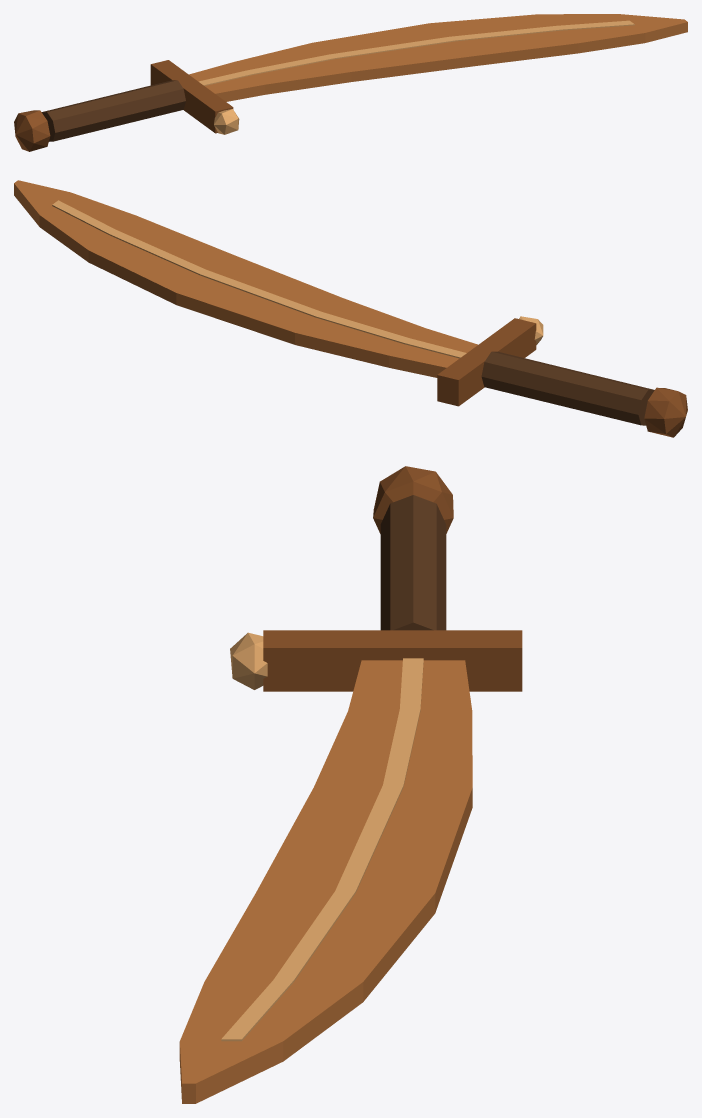
The model's file is drop_bronze_scimitar.glb.
3 renders of one model, top to bottom at view 1: azimuth 30°, elevation 25°; view 2: azimuth 150°, elevation 25°; view 3: azimuth 270°, elevation 25°, orthographic. The views are drawn at different scales.
Parts seen in each view (by area): view 1: drop_bronze_scimitar; view 2: drop_bronze_scimitar; view 3: drop_bronze_scimitar.
Part boxes in pixels (x1,y1,x2,y2): drop_bronze_scimitar: (14, 14, 687, 151); drop_bronze_scimitar: (14, 180, 687, 437); drop_bronze_scimitar: (179, 466, 522, 1103).
Bounding box in the file's own units: 0.6576 × 0.0374 × 0.1586.
